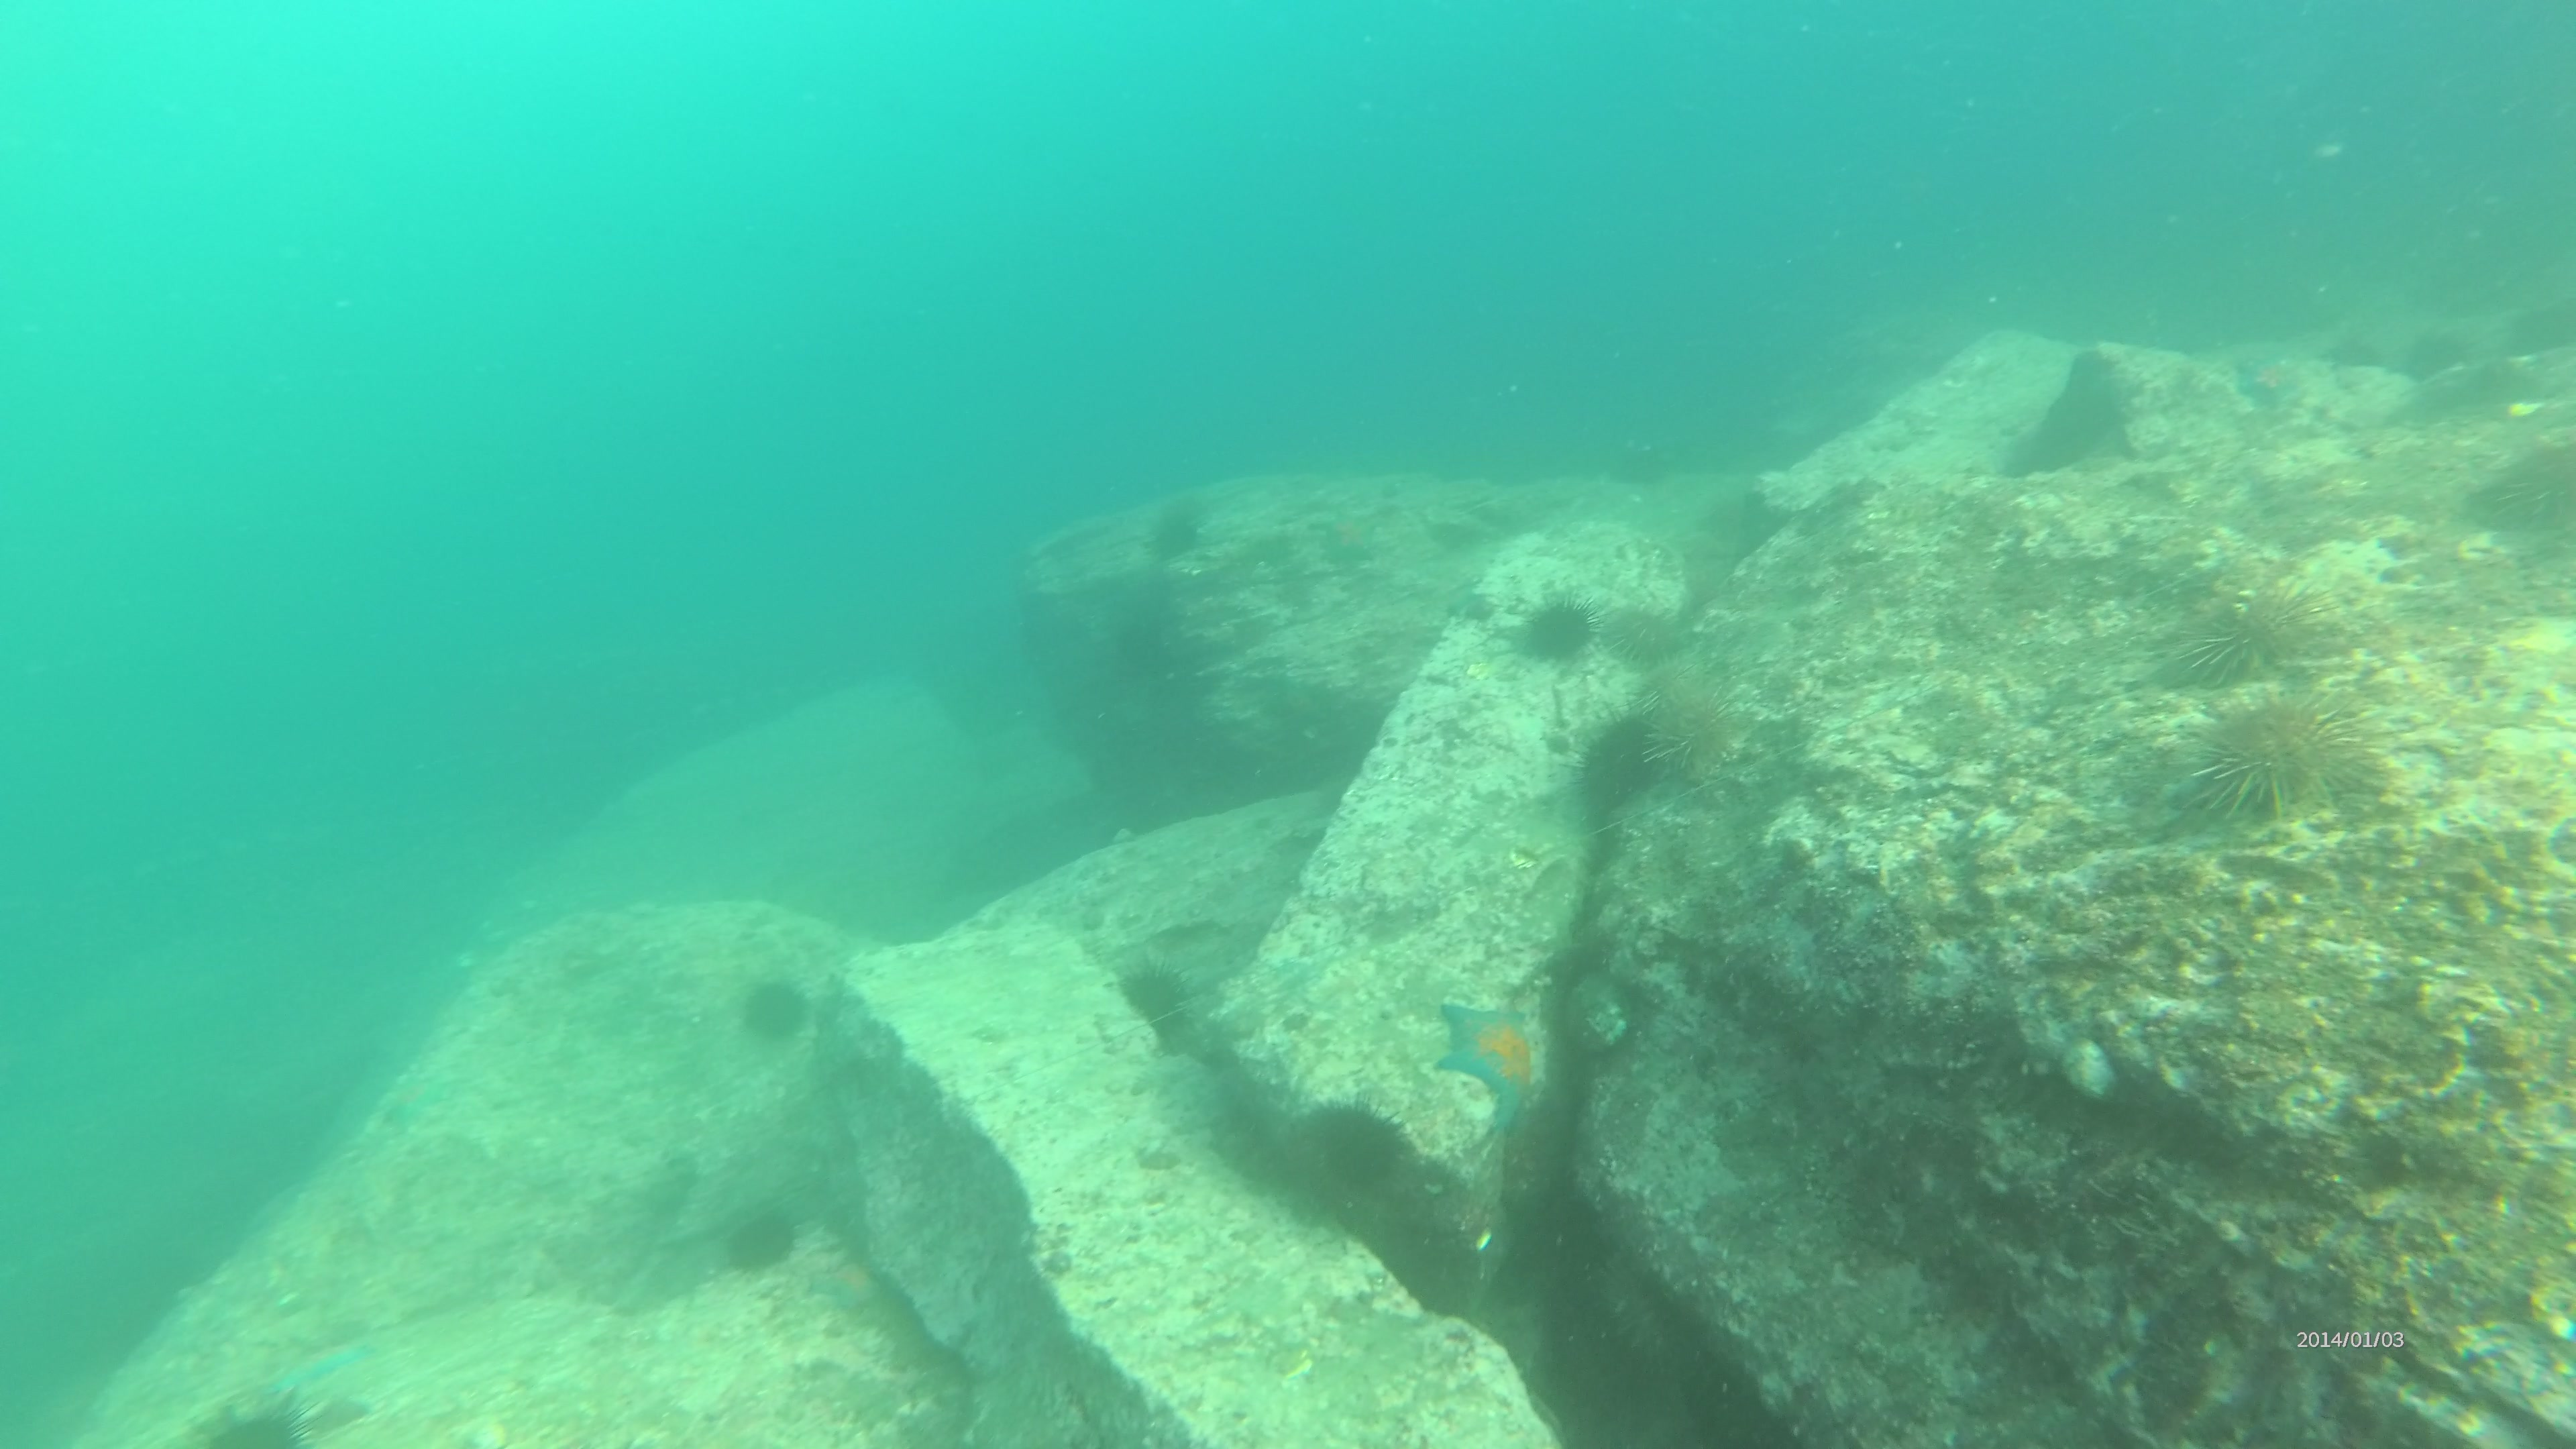echinus: (2183, 694, 2378, 830), (2174, 575, 2330, 683), (1628, 683, 1752, 787), (1591, 596, 1700, 688), (1320, 1104, 1414, 1194), (729, 962, 812, 1047), (186, 1401, 326, 1449), (1506, 580, 1591, 655), (1113, 959, 1189, 1035), (725, 1201, 805, 1274), (1141, 513, 1210, 570)
starfish: (1433, 994, 1548, 1127), (809, 1249, 899, 1313), (2222, 345, 2304, 407)
